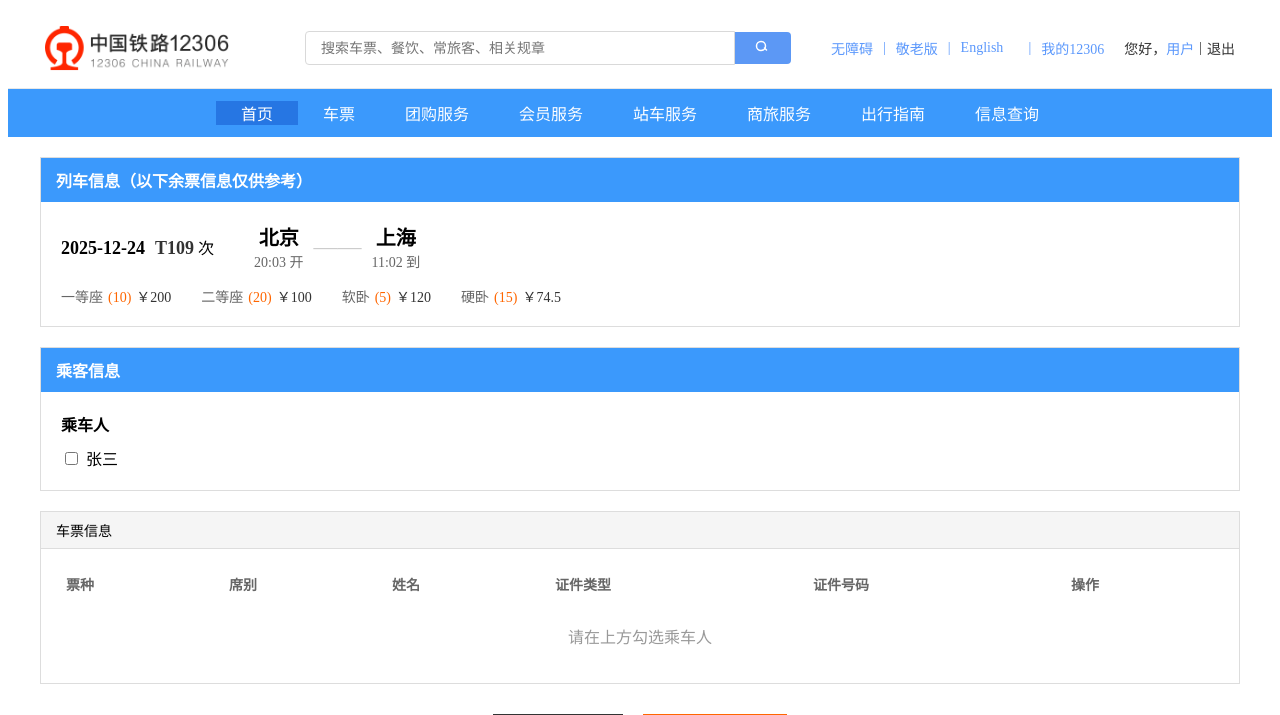
Test: OrderFillPage › Given 勾选了乘车人 When 用户点击提交订单 Then 弹出确认订单模态框
The width and height of the screenshot is (1280, 715).
Click the checkbox labelled "张三": (72, 458) [65,452,78,464]
(page scrolled)
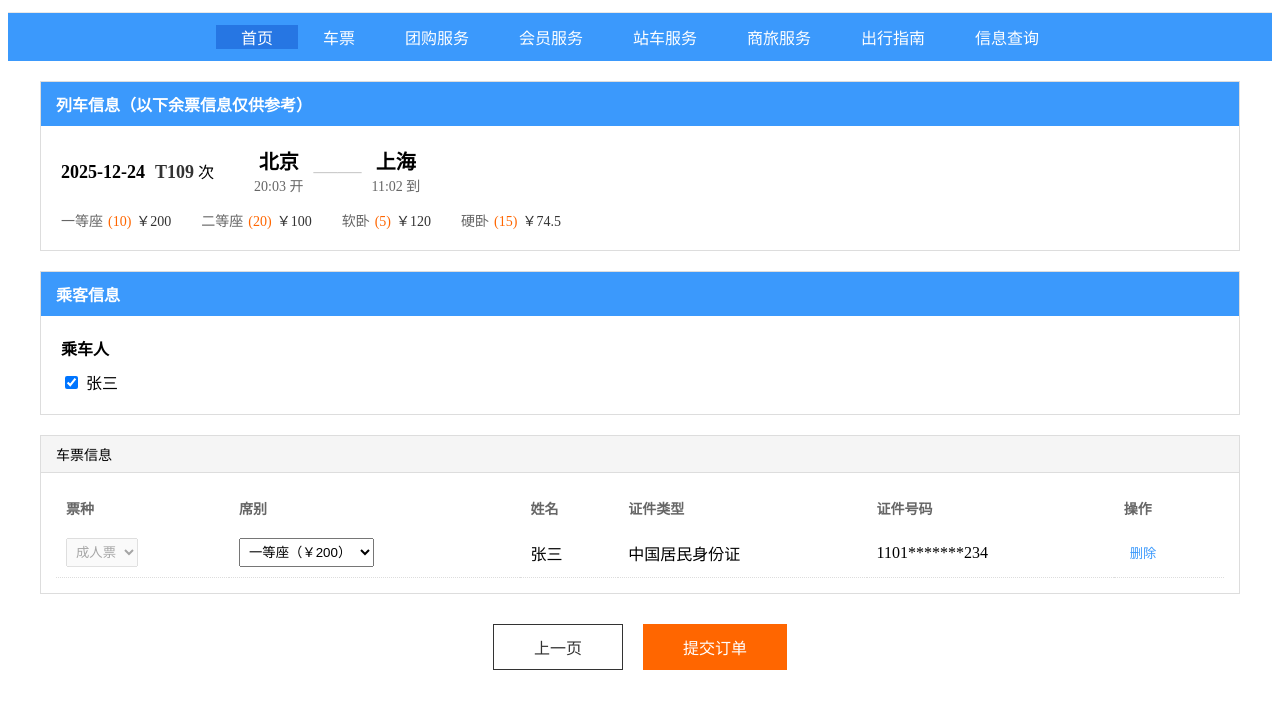
Click the button "提交订单": (715, 647) [643,624,787,670]
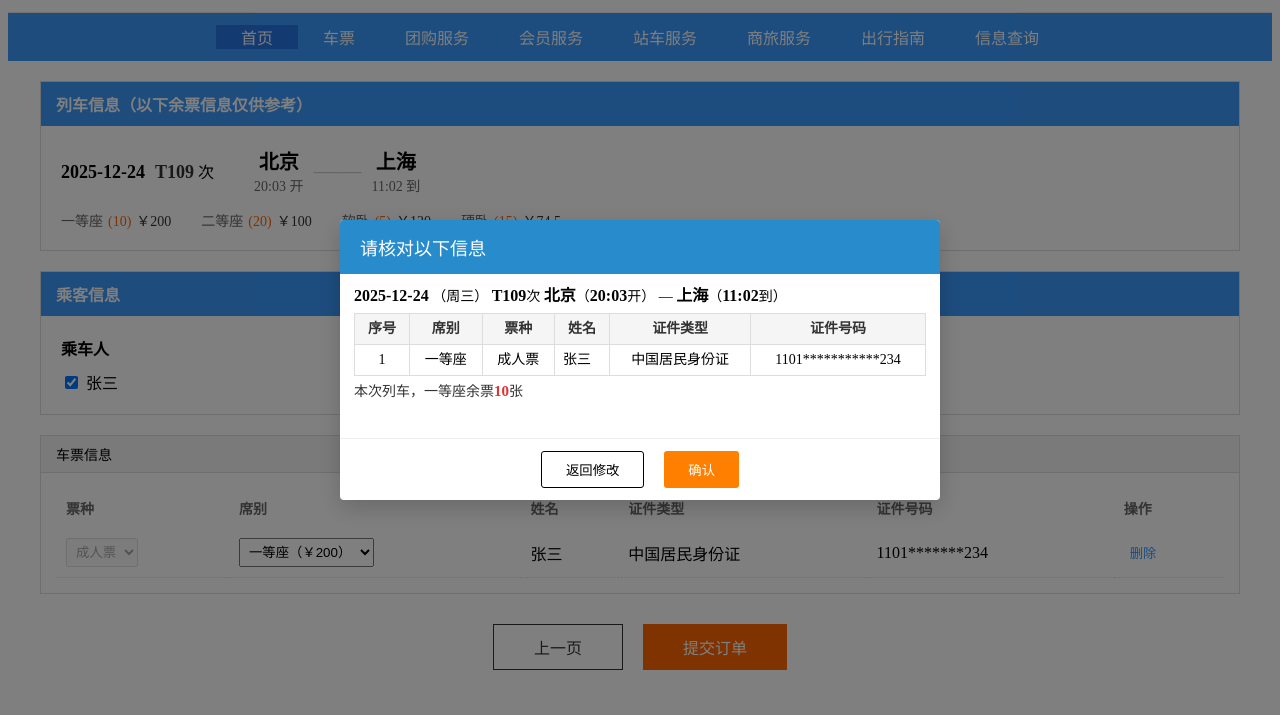
Expected: the text "请核对以下信息" is shown, [340,220,940,274]
Expected: the button "返回修改" is shown, [541,451,644,488]
Expected: the button "确认" is shown, [664,451,739,488]
